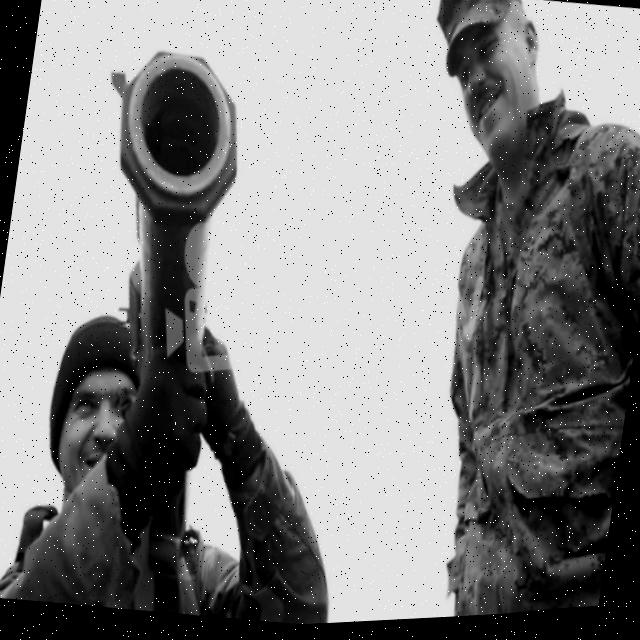rocket: (71, 27, 288, 396)
